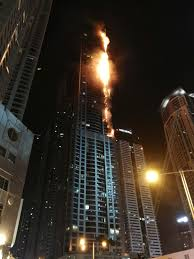fire: (87, 32, 129, 135)
